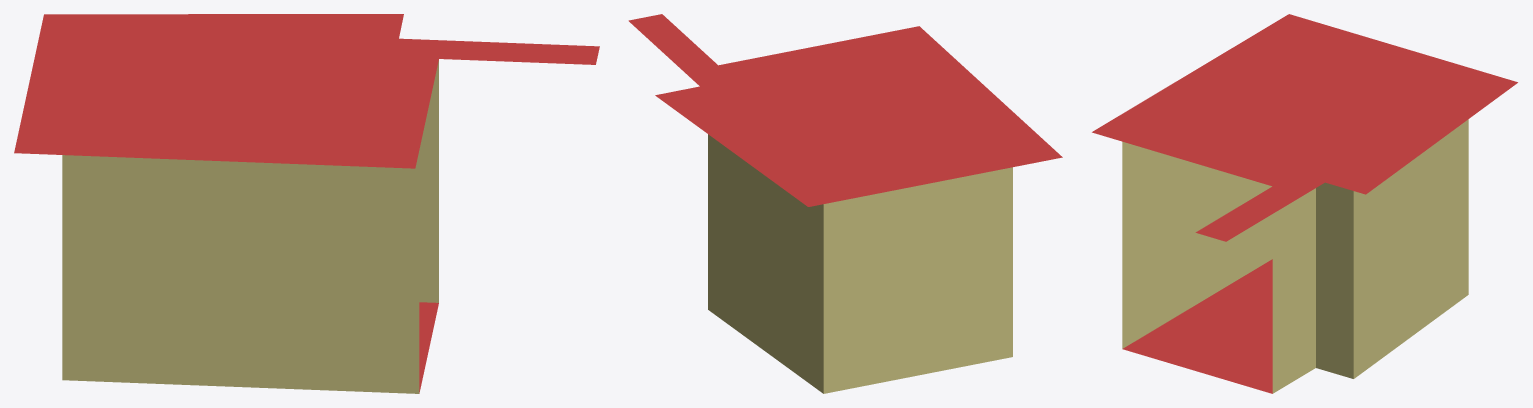
3 renders of one model, left to right at view 1: azimuth 30°, elevation 25°; view 2: azimuth 150°, elevation 25°; view 3: azimuth 270°, elevation 25°, orthographic. The views are drawn at different scales.
Size of the model in its own units: 14.31 by 11.34 by 6.08.
